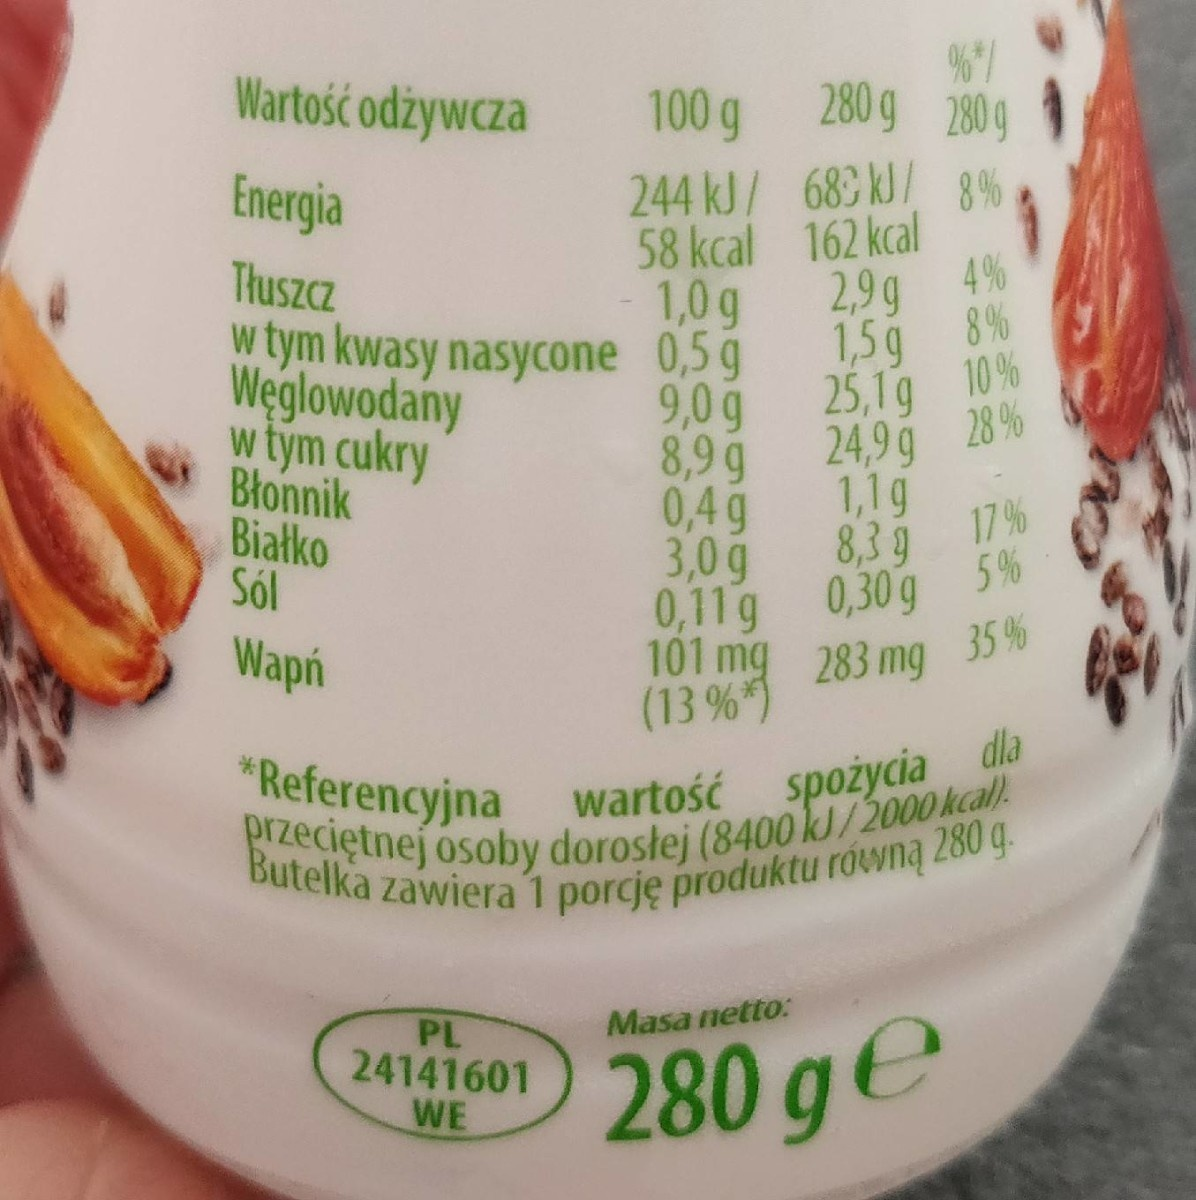column: (235, 74, 618, 701), (633, 85, 770, 725), (806, 80, 928, 685), (945, 46, 1023, 664)
table: (222, 41, 1026, 731)
